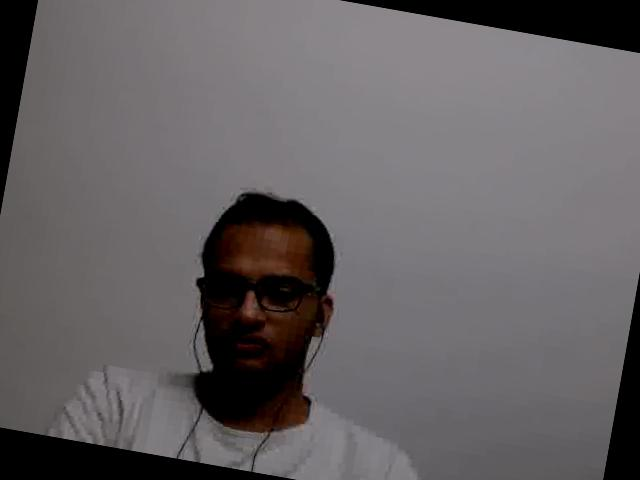bosan: (193, 222, 329, 386)
